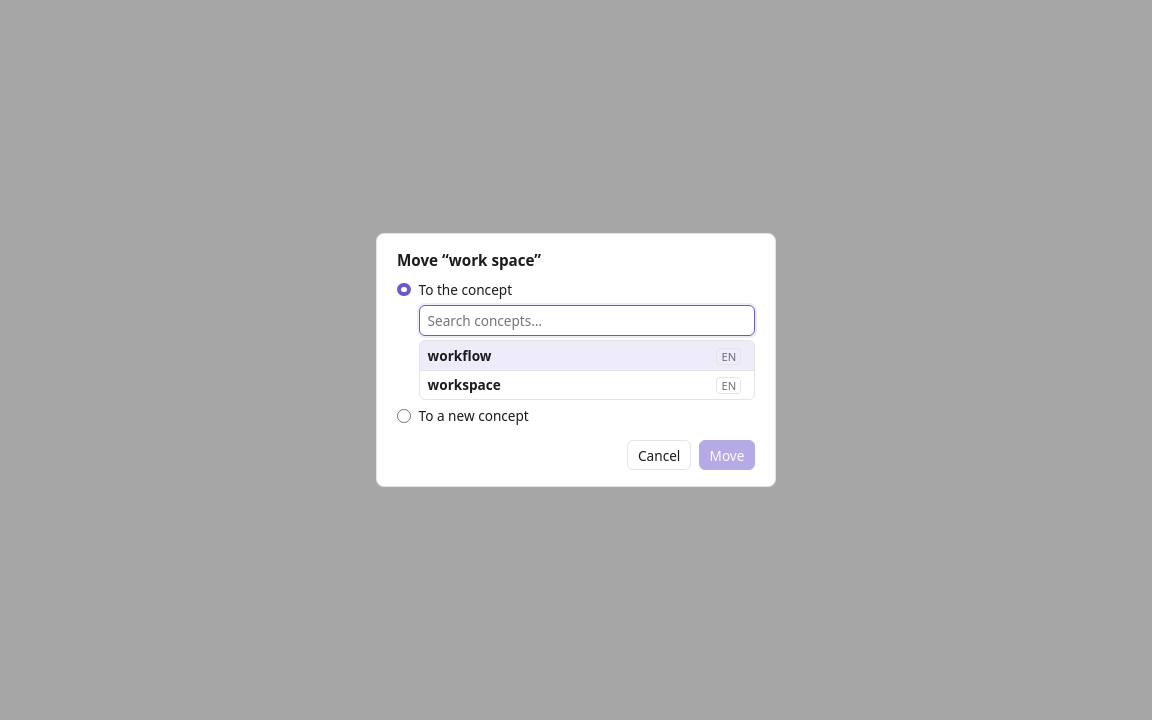
it: MoveDialog › says plain Move on the normal button whether or not the source is left empty
The width and height of the screenshot is (1152, 720).
Click the option "workspace EN": [464, 385] box top-left (420, 370), bottom-right (754, 399)
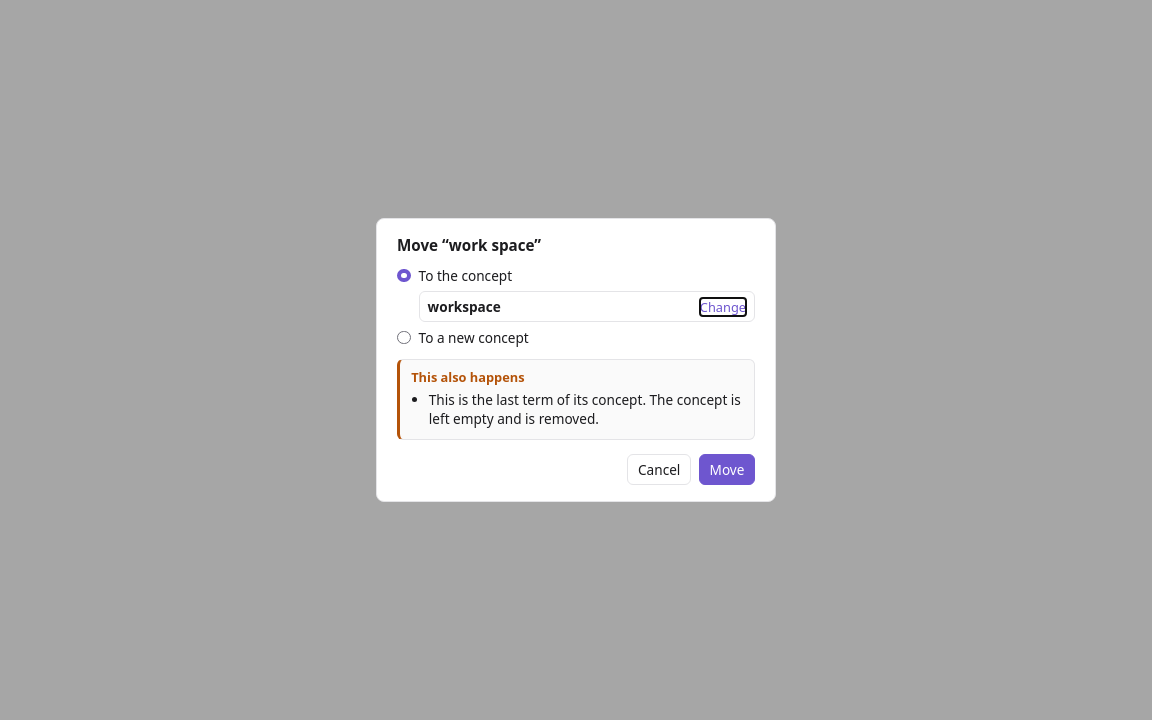
Expected: the button "Move" is enabled, top-left (699, 454), bottom-right (755, 485)
Click the button "Change": [723, 306] box top-left (700, 298), bottom-right (746, 316)
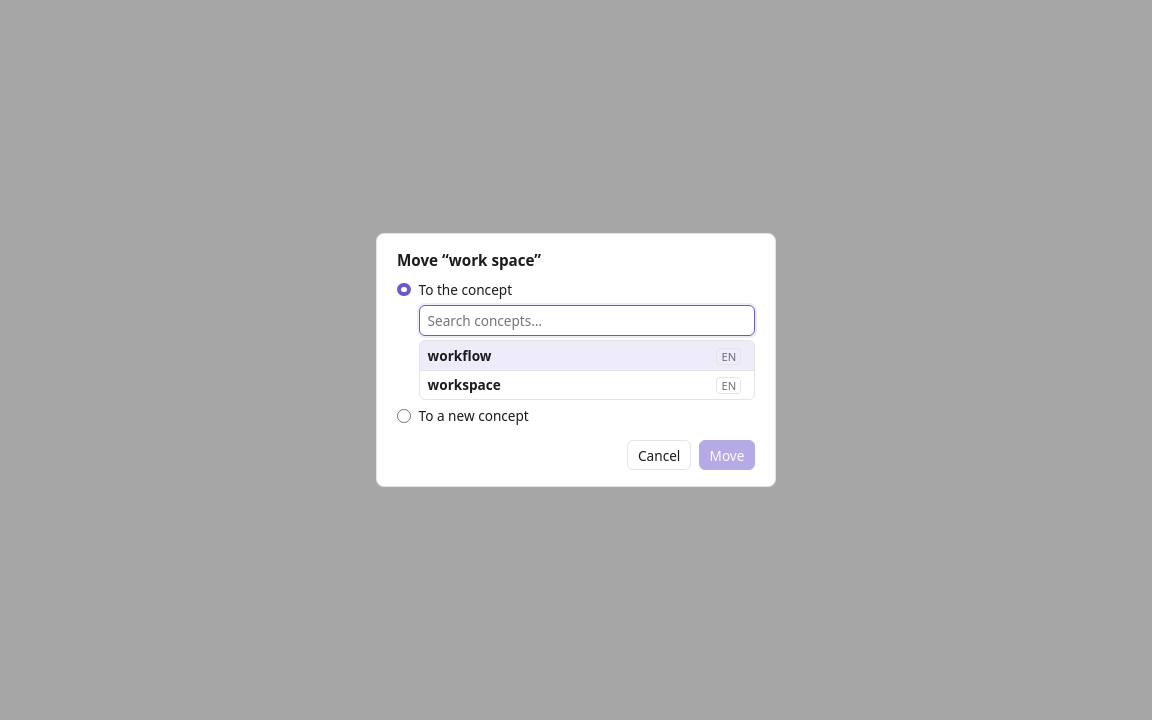
Click the option "workflow EN": [460, 355] box top-left (420, 341), bottom-right (754, 370)
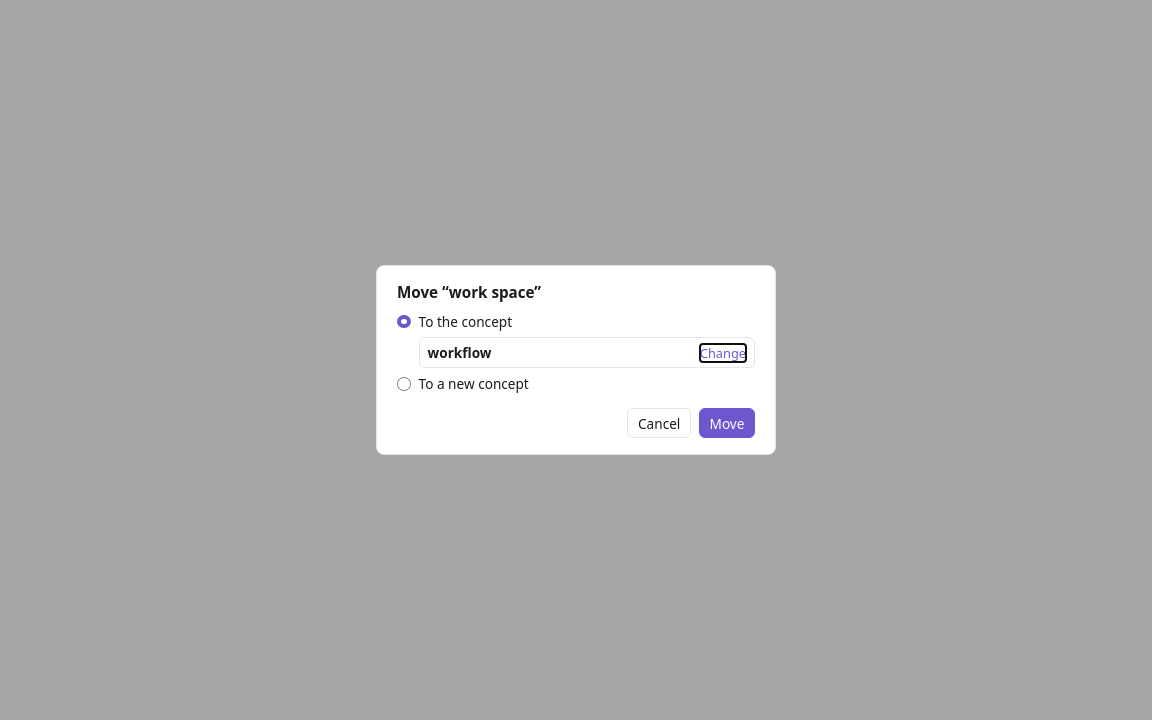
Expected: the button "Move" is enabled, top-left (699, 408), bottom-right (755, 438)
